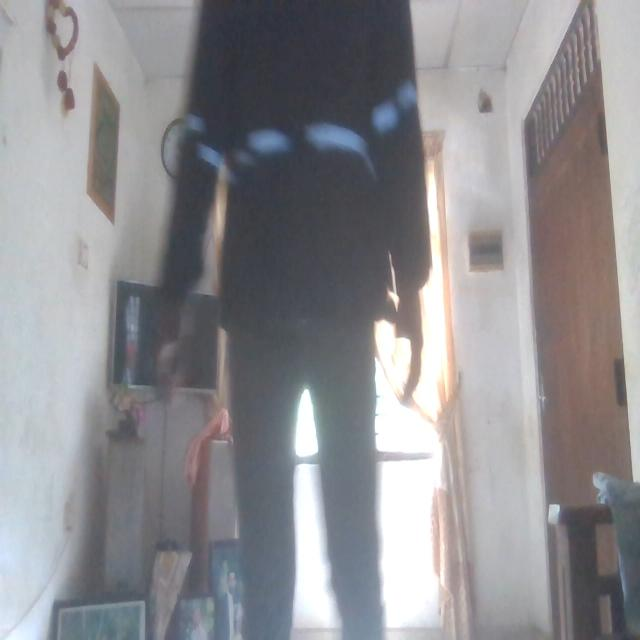Jacket_Wearer: (175, 0, 432, 371)
Person: (168, 0, 432, 640)
